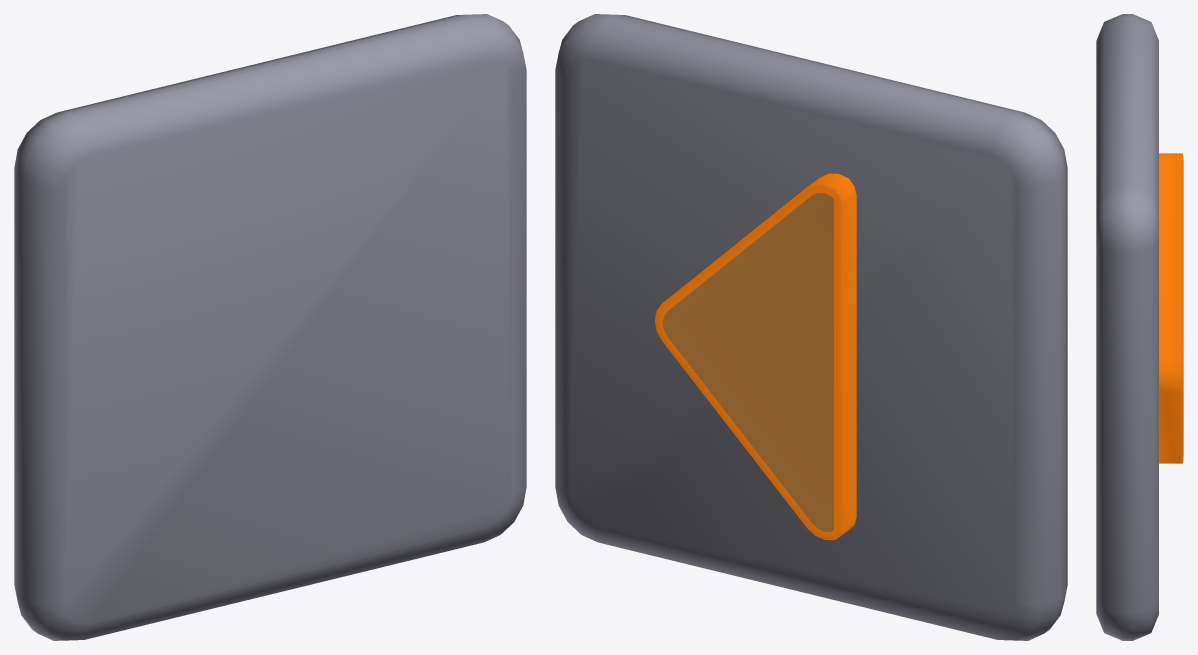
Rendered from menu_arrow.glb.
3 renders of one model, left to right at view 1: azimuth 30°, elevation 25°; view 2: azimuth 150°, elevation 25°; view 3: azimuth 270°, elevation 25°, orthographic. The views are drawn at different scales.
Parts seen in each view (by area): view 1: Cube; view 2: Cube, Cube.002; view 3: Cube, Cube.002.
Part boxes in pixels (x1,y1,x2,y2): Cube: (14, 14, 526, 640); Cube: (555, 14, 1067, 640); Cube.002: (654, 173, 856, 540); Cube: (1096, 14, 1158, 640); Cube.002: (1159, 153, 1183, 463).
Size of the model in its own units: 1.12 by 1.12 by 0.1966.
Materials: 2 (2 with a texture image).
